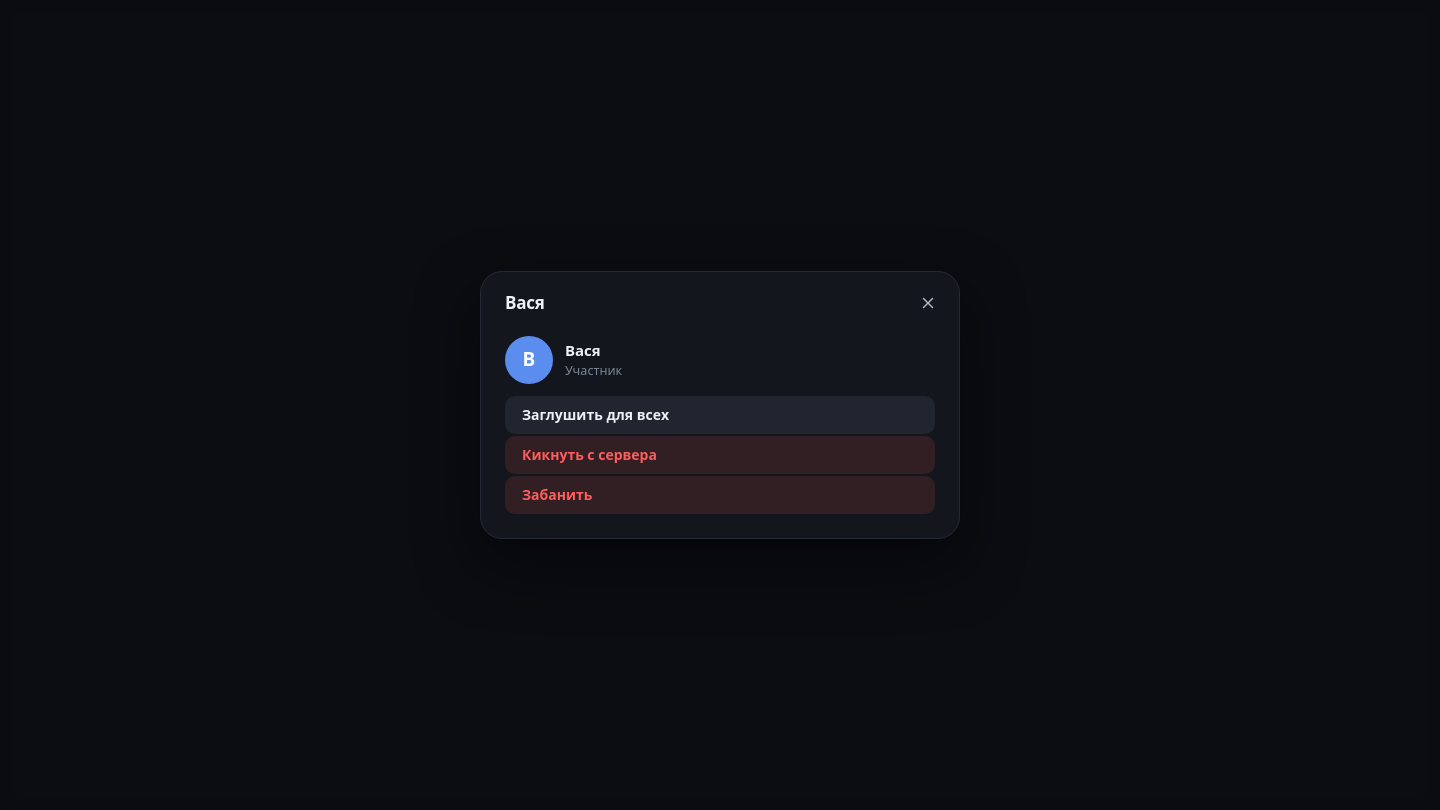
person menu › mute dialog offers 5 min, 15 min, 1 h, 1 day and until lifted
Later steps or results of the test are not shown.
Click the button "Заглушить для всех" at point(596, 414), box x1=505 y1=396 x2=935 y2=434
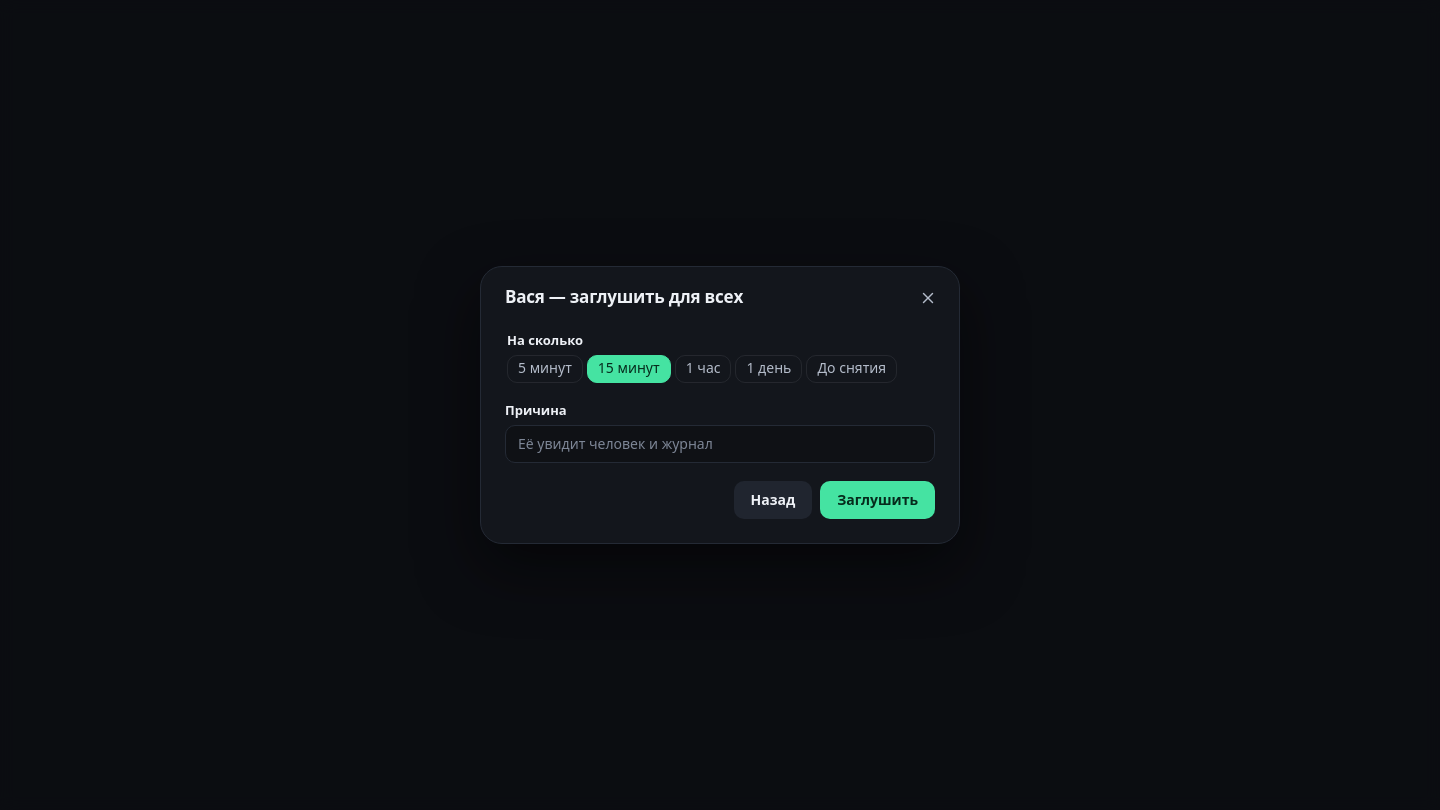
Check: the radio button labelled "5 минут" is shown, box x1=507 y1=354 x2=583 y2=382
Check: the radio button labelled "15 минут" is shown, box x1=587 y1=354 x2=671 y2=382
Check: the radio button labelled "1 час" is shown, box x1=675 y1=354 x2=732 y2=382
